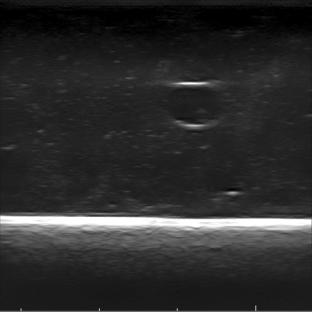vessel: (163, 80, 228, 132)
